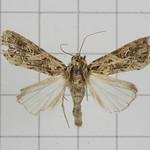Spodoptera litura: (1, 30, 150, 128)
